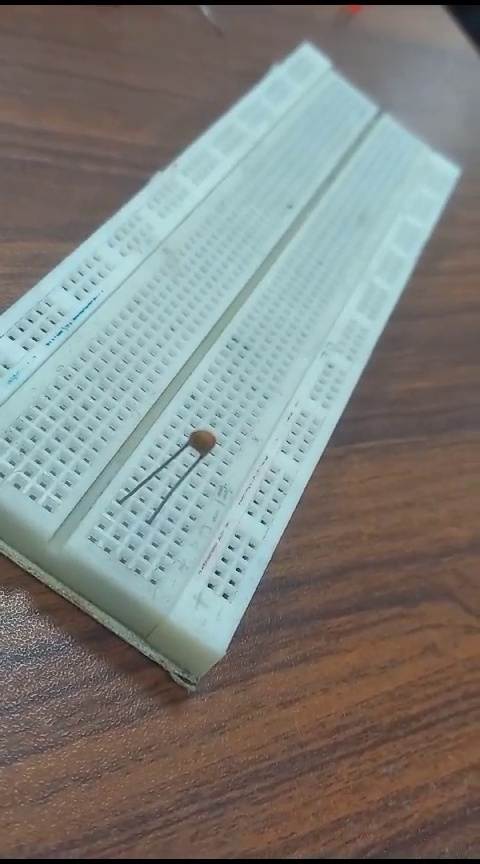ceramic capacitor: (115, 420, 220, 527)
